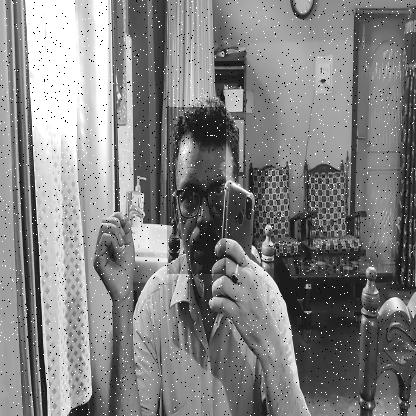Normal: (167, 107, 226, 274)
